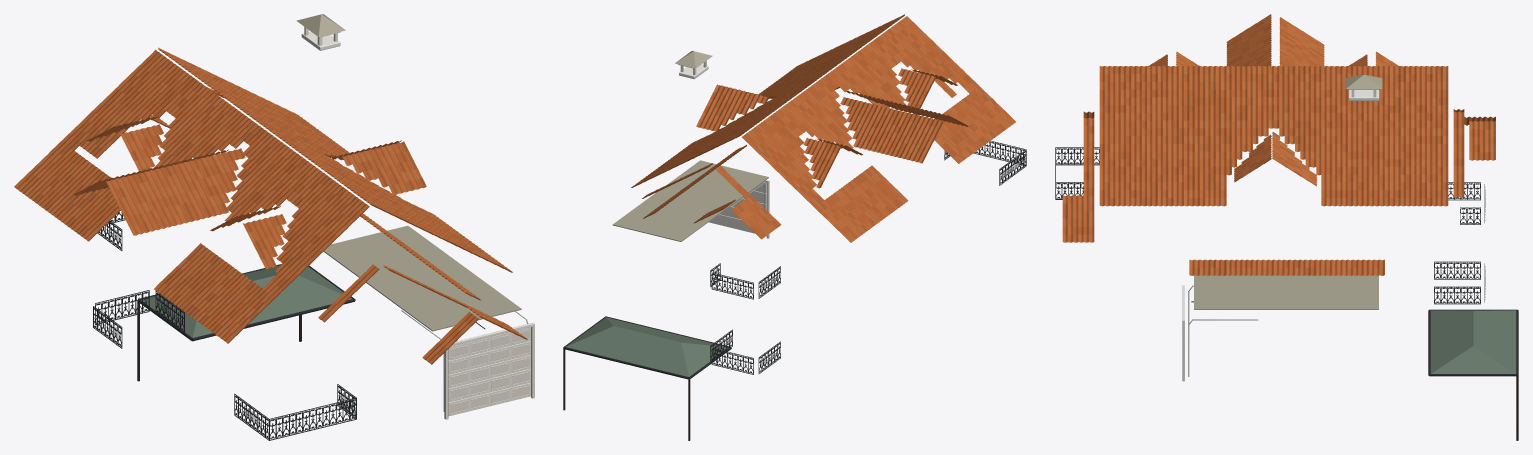
File: villa-exterior.glb
The picture shows the model from 3 angles, left to right: view 1: azimuth 30°, elevation 25°; view 2: azimuth 150°, elevation 25°; view 3: azimuth 270°, elevation 25°; orthographic projection. The views are drawn at different scales.
Visible parts, largest first — view 1: Projected clay tile shells, Garage flat roof gravel, Ironwork | KORKULUK, Green rear canopy, Hipped chimney cap, Garage sectional panel.003, Garage sectional panel, Garage sectional panel.001, Garage sectional panel.002, Garage sectional panel.004; view 2: Projected clay tile shells, Garage flat roof gravel, Green rear canopy, Ironwork | KORKULUK; view 3: Projected clay tile shells, Garage flat roof gravel, Green rear canopy, Ironwork | KORKULUK, Hipped chimney cap.
Part boxes in pixels (x1,y1,x2,y2): Projected clay tile shells: (14,47,527,364); Garage flat roof gravel: (323,225,521,331); Ironwork | KORKULUK: (93,212,356,440); Green rear canopy: (141,265,351,337); Hipped chimney cap: (296,14,345,36); Garage sectional panel.003: (448,341,530,374); Garage sectional panel: (448,382,530,416); Garage sectional panel.001: (448,368,530,402); Garage sectional panel.002: (448,355,530,388); Garage sectional panel.004: (448,327,530,360); Projected clay tile shells: (631,14,1015,242); Garage flat roof gravel: (612,160,768,241); Green rear canopy: (566,317,727,376); Ironwork | KORKULUK: (710,141,1026,374); Projected clay tile shells: (1062,14,1495,275); Garage flat roof gravel: (1194,275,1378,309); Green rear canopy: (1430,310,1516,373); Ironwork | KORKULUK: (1055,147,1485,304); Hipped chimney cap: (1345,74,1382,88).
Size of the model in its own units: 13.66 by 14.42 by 17.98.
Materials: 14 (14 with a texture image).
